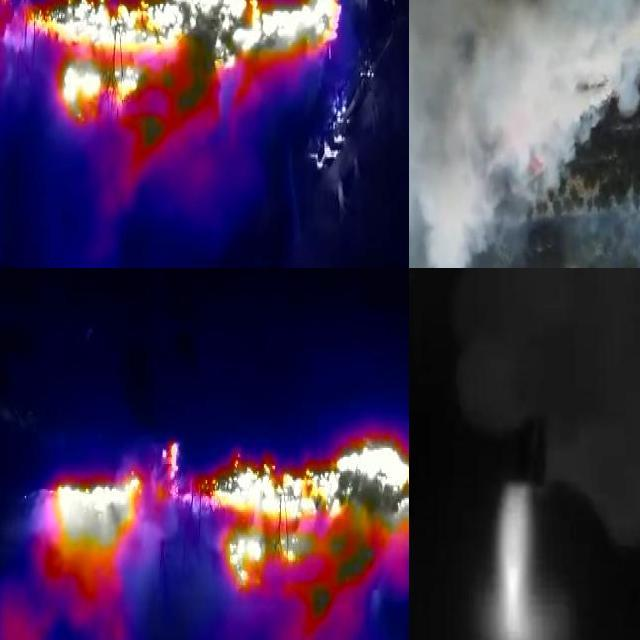fire: (1, 1, 345, 155), (153, 437, 410, 621), (45, 469, 143, 593), (497, 478, 541, 640)
